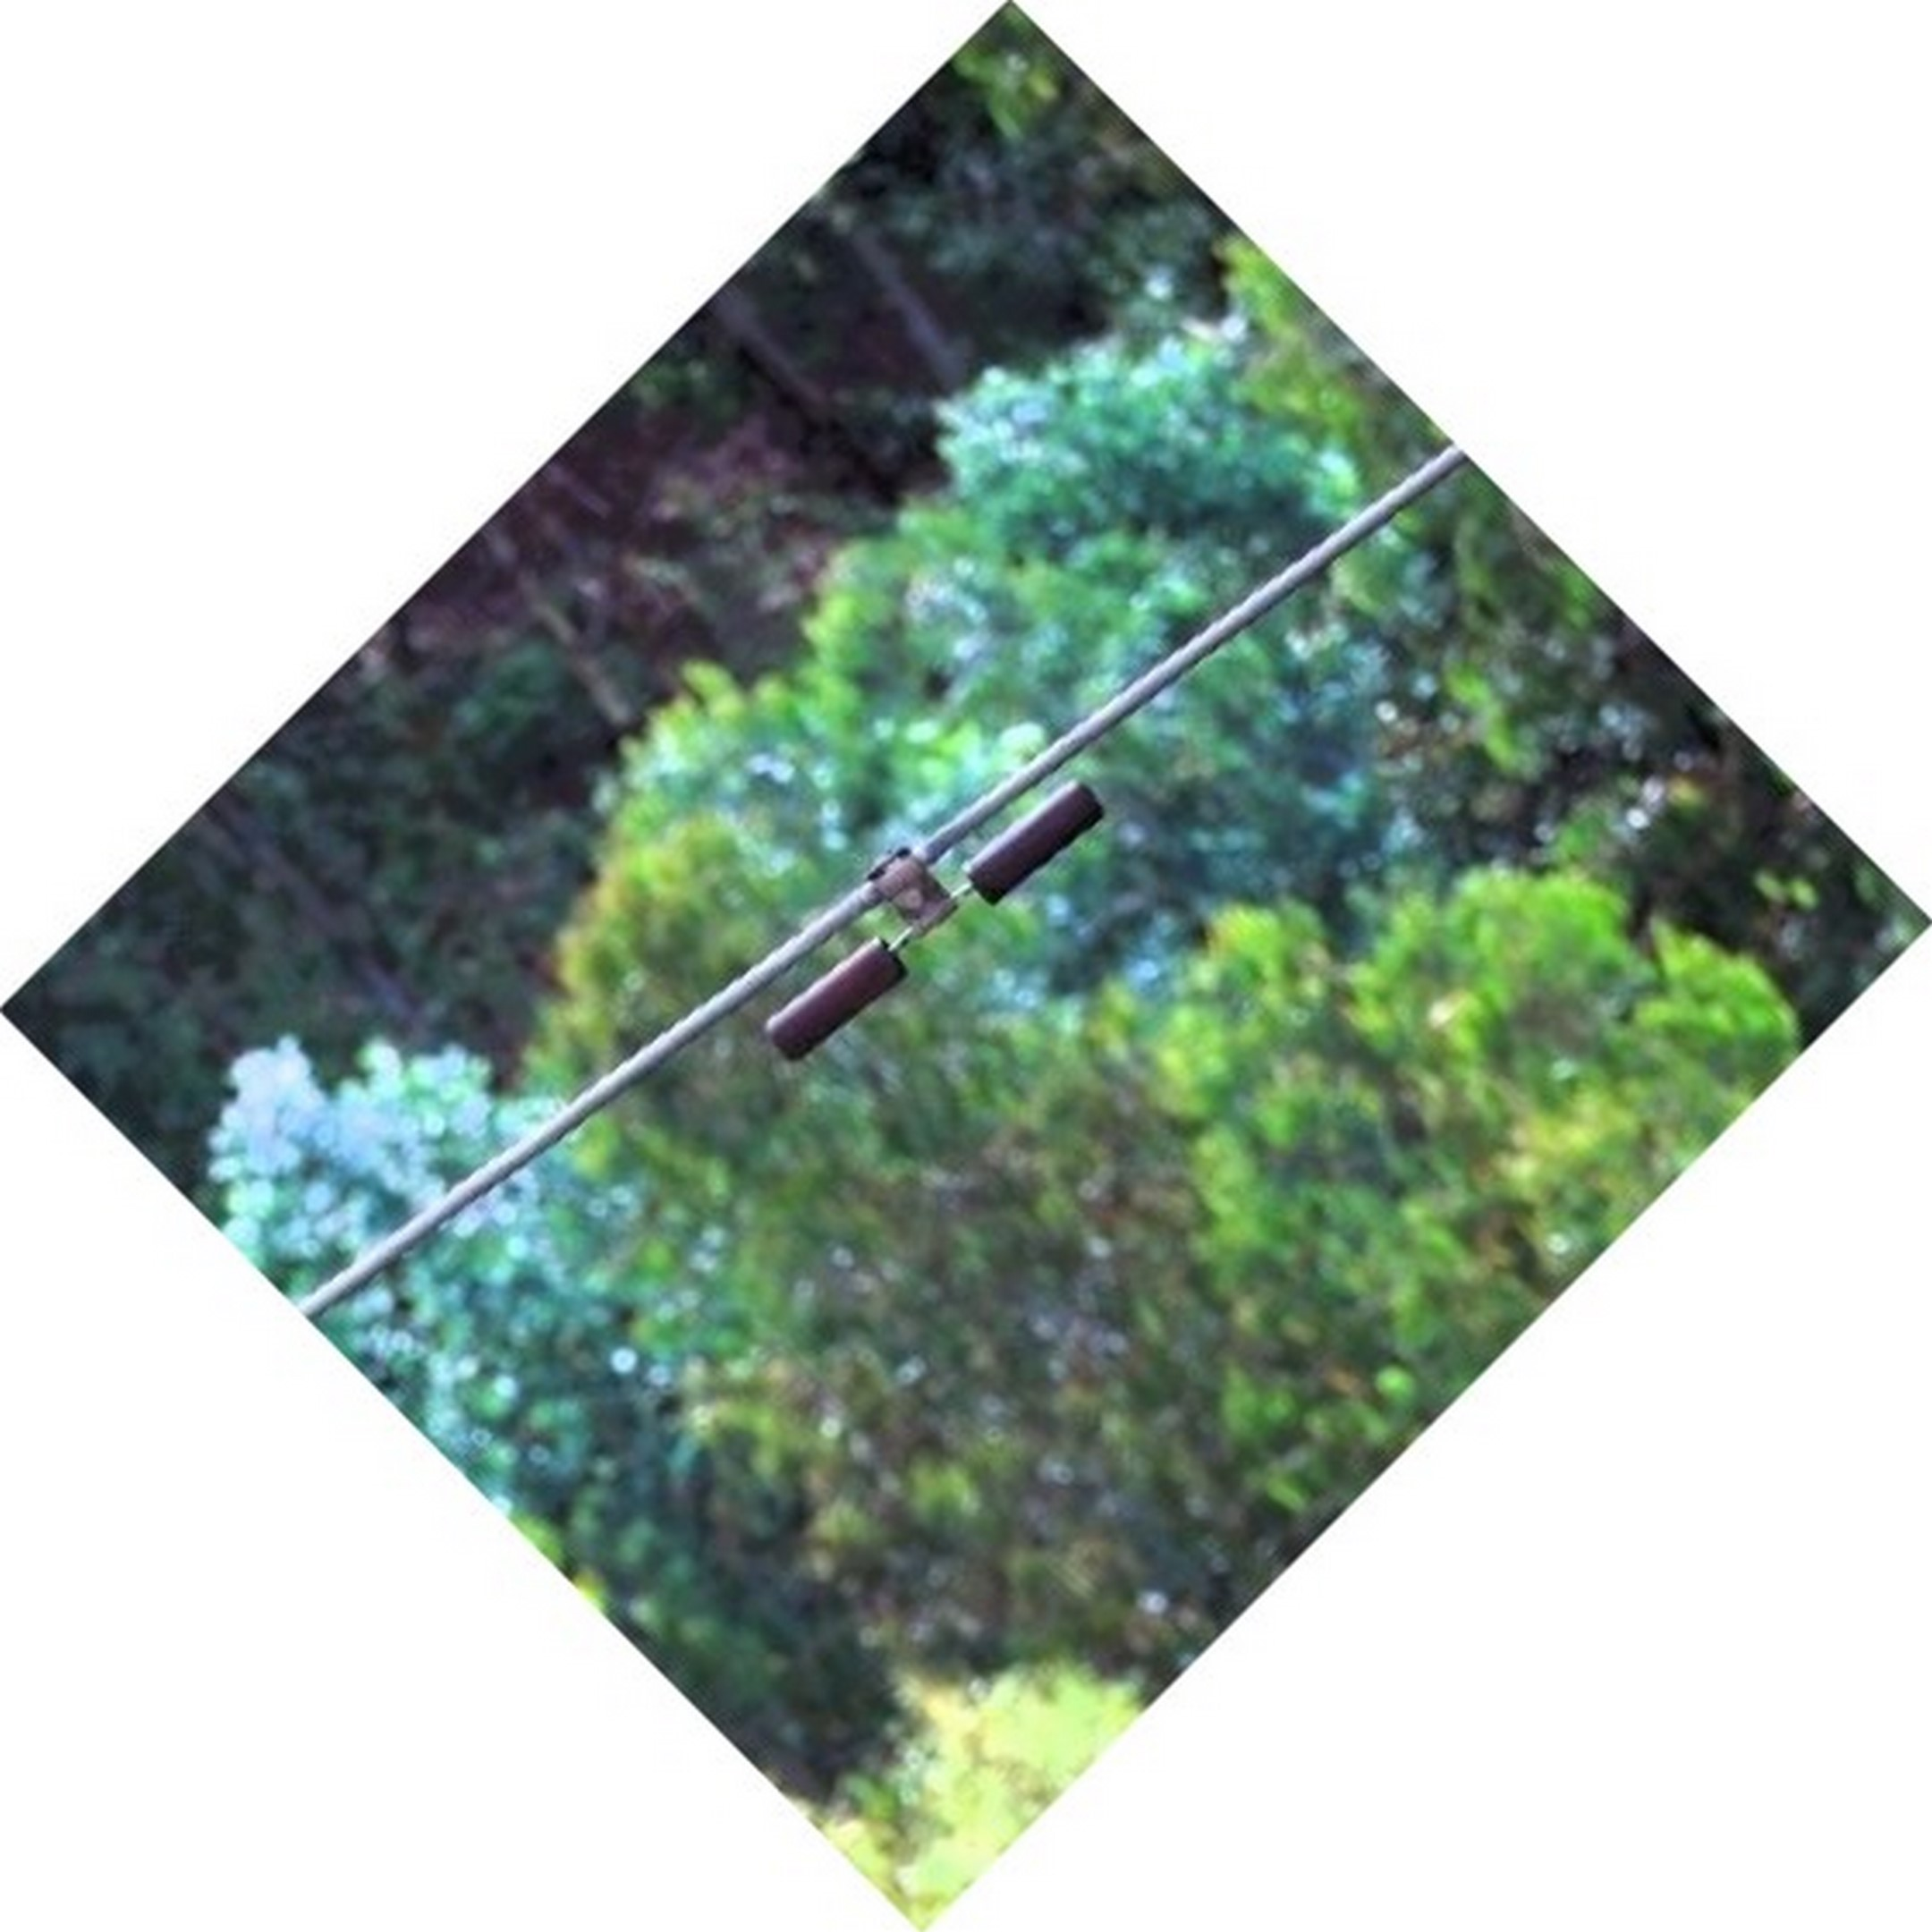Shockproof hammer: (741, 732, 1120, 1077)
